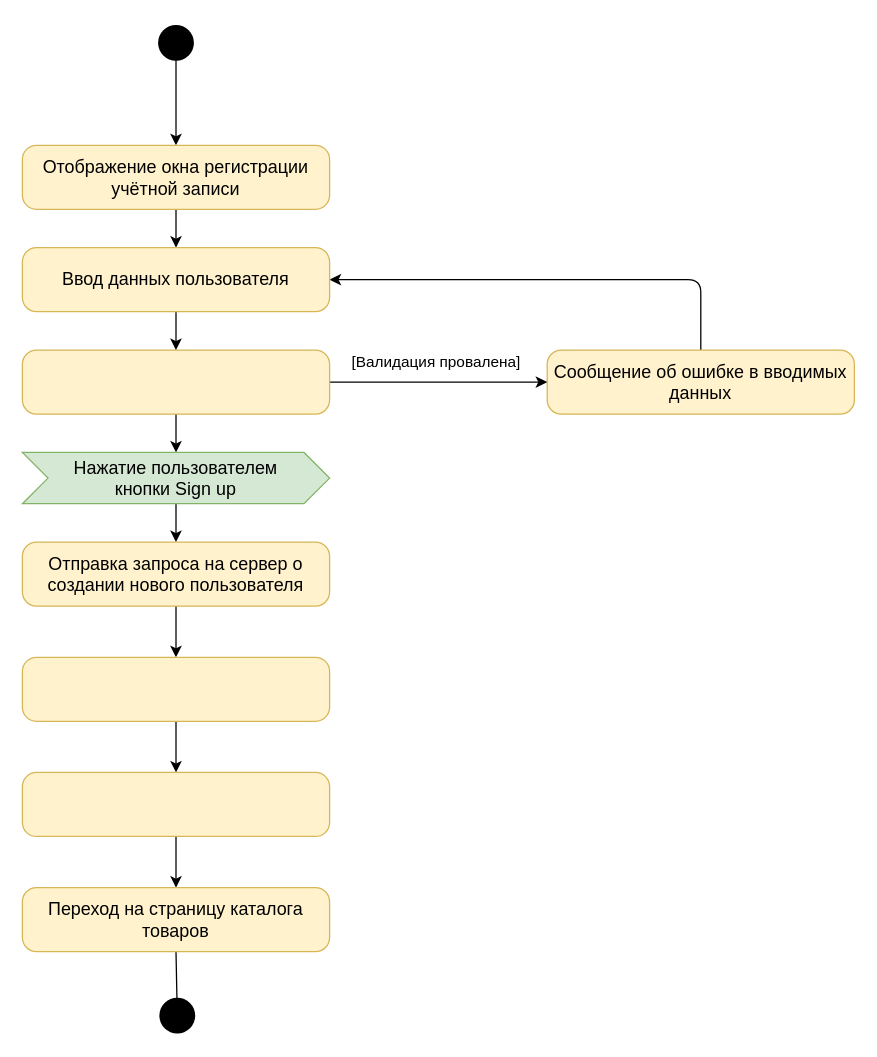
The diagram is 877 pixels wide and 1057 high, and some of its shapes have lost their labels. The centre of each missing label's shape, as x and y in pixels:
Изменение статуса пользователя на "неактивирован": (x=175, y=688)
Проверка вводимых данных: (x=175, y=381)
Скрытие окна регистрации учётной записи пользователя: (x=175, y=803)
